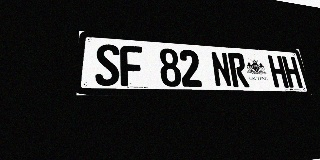2: (179, 49, 202, 87)
8: (159, 48, 182, 87)
F: (120, 45, 144, 86)
H: (267, 55, 289, 88), (282, 56, 303, 88)
N: (210, 51, 233, 87)
R: (227, 52, 250, 87)
S: (95, 44, 120, 86)
